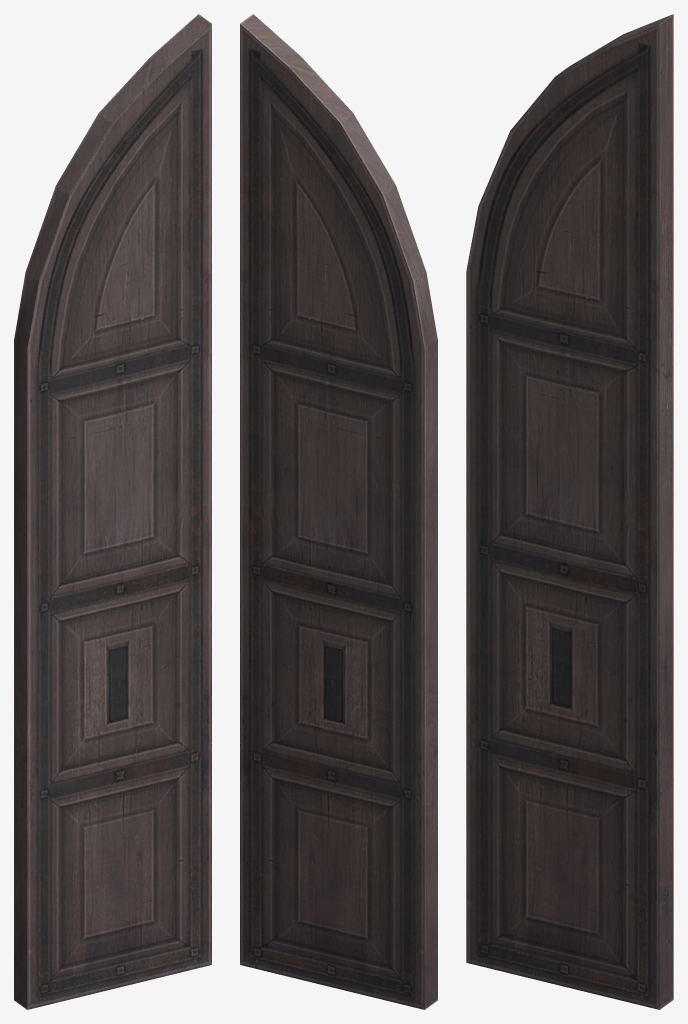
File: bg_lut_lucastle_housecommondoor02_sm_sup.FBX
3 renders of one model, left to right at view 1: azimuth 30°, elevation 25°; view 2: azimuth 150°, elevation 25°; view 3: azimuth 330°, elevation 25°, orthographic. The views are drawn at different scales.
Parts seen in each view (by area): view 1: bg_lut_lucastle_housecommondoor02_sm_sup; view 2: bg_lut_lucastle_housecommondoor02_sm_sup; view 3: bg_lut_lucastle_housecommondoor02_sm_sup.
Boxes of the visible parts, x1,y1,x2,y2 form: bg_lut_lucastle_housecommondoor02_sm_sup: [14, 14, 211, 1009]; bg_lut_lucastle_housecommondoor02_sm_sup: [240, 14, 437, 1009]; bg_lut_lucastle_housecommondoor02_sm_sup: [466, 14, 673, 1009].
Bounding box in the file's own units: 64.49 × 314 × 8.
